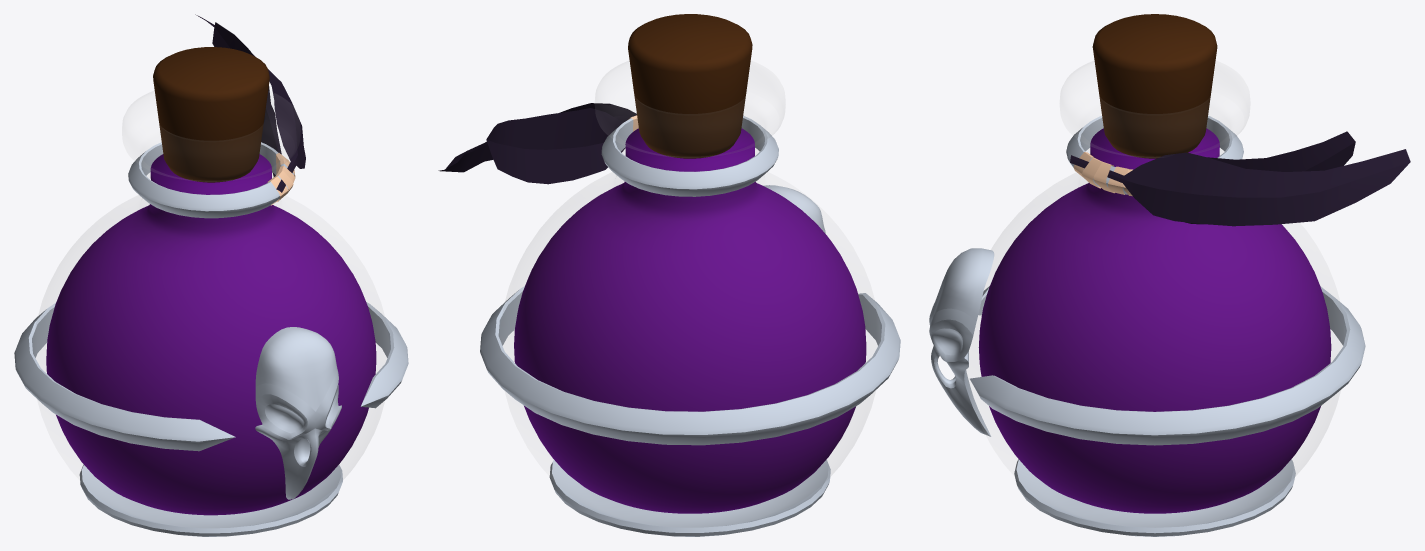
The model's file is flask.fbx.
3 renders of one model, left to right at view 1: azimuth 30°, elevation 25°; view 2: azimuth 150°, elevation 25°; view 3: azimuth 270°, elevation 25°, orthographic. The views are drawn at different scales.
Parts seen in each view (by area): view 1: Potion; view 2: Potion; view 3: Potion.
Part boxes in pixels (x1,y1,x2,y2): Potion: (14,14,408,536); Potion: (438,14,900,536); Potion: (929,14,1410,536).
Bounding box in the file's own units: 218 × 260 × 249.
